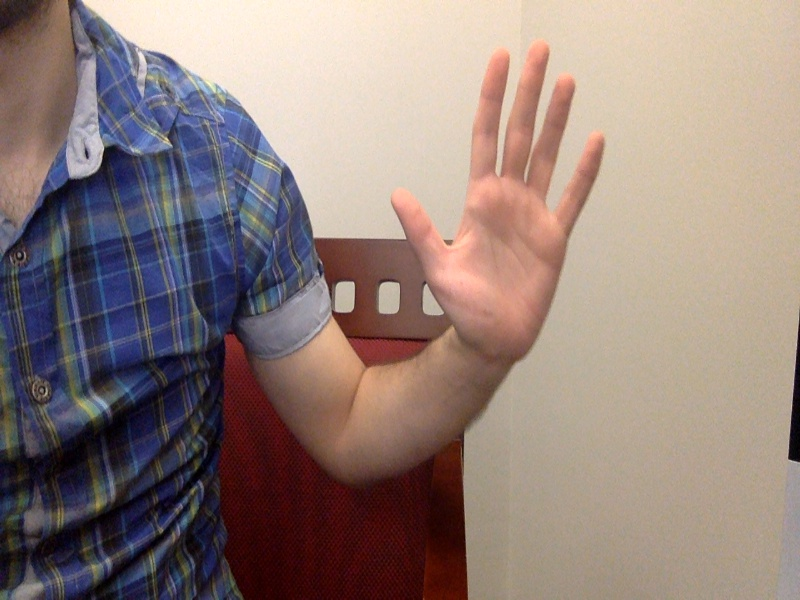5-hand: (389, 37, 610, 352)
